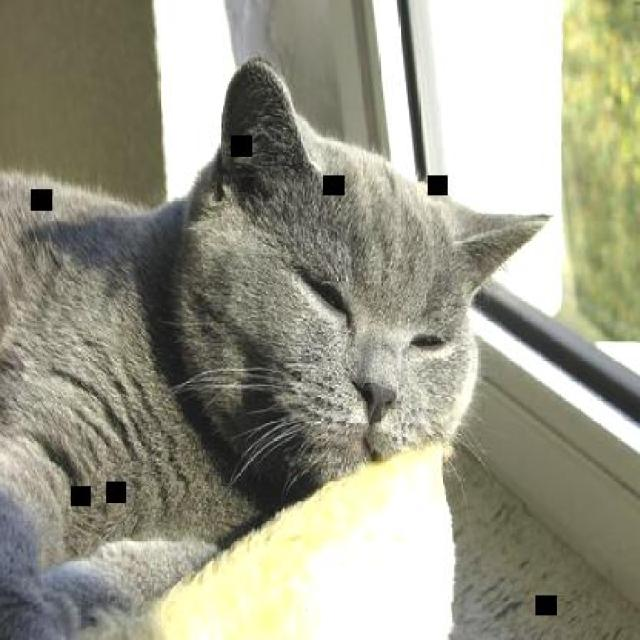cat: (1, 57, 554, 638)
